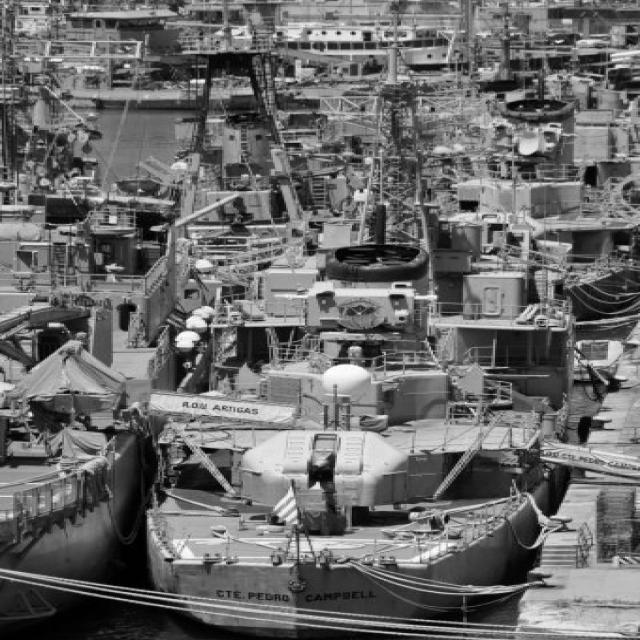Fragata: (108, 41, 592, 633)
